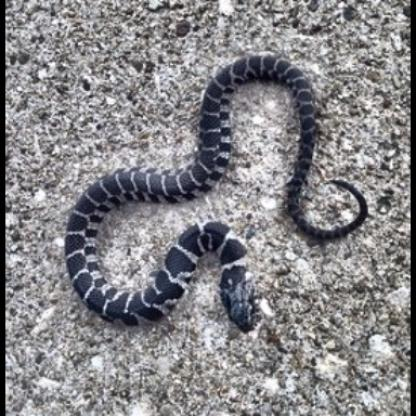Snake: (44, 153, 266, 336), (267, 79, 363, 232), (178, 219, 259, 337), (292, 174, 367, 243)
